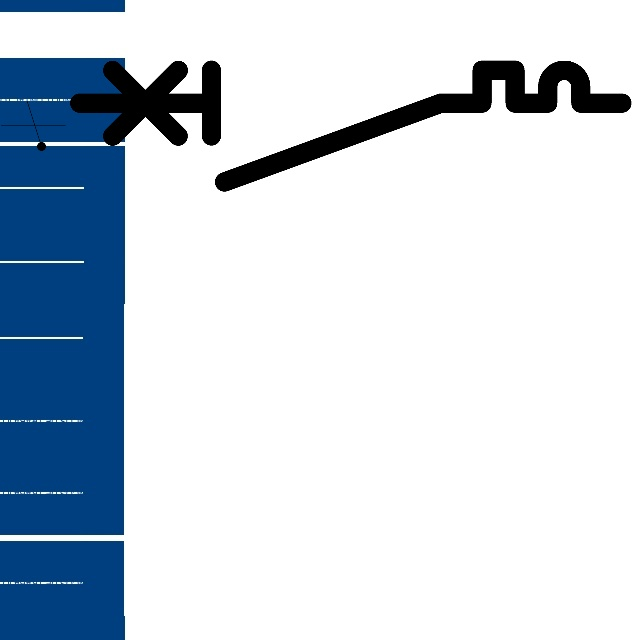interruptor_termomagnetico: (65, 56, 635, 195)
